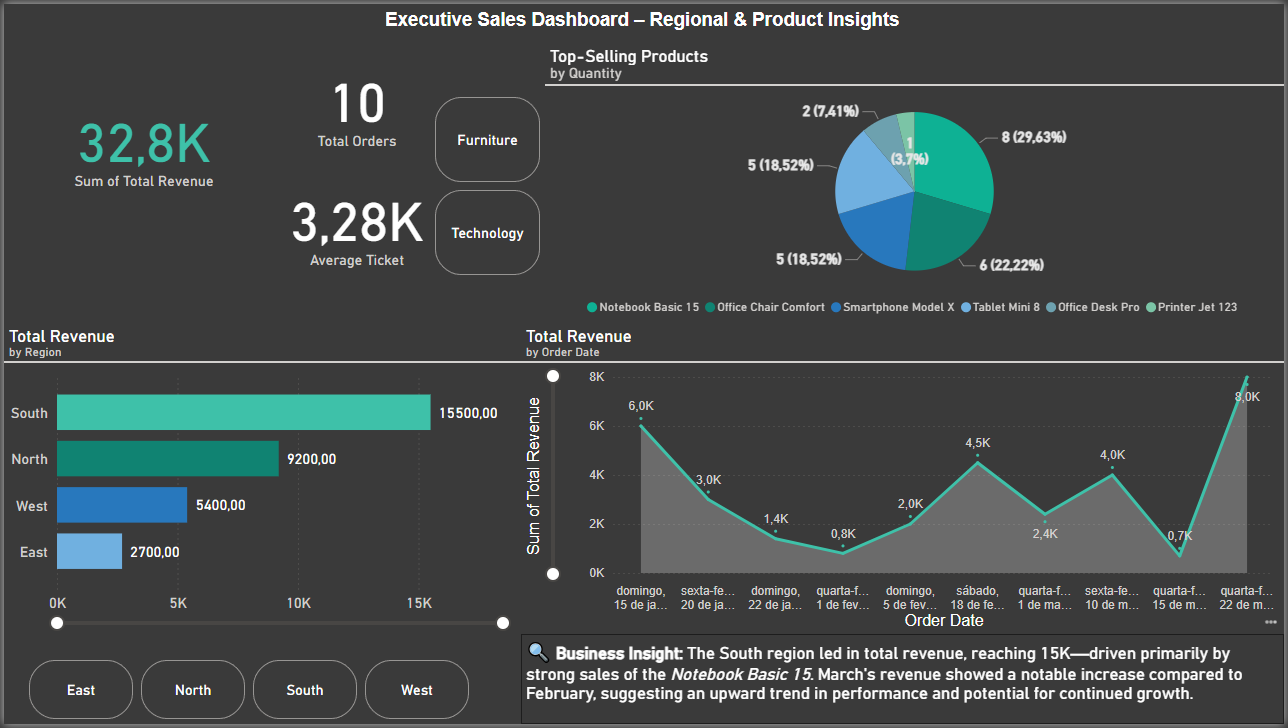

The dashboard page shown, as its layout file describes it:
{"tool":"powerbi","page":{"name":"Page 1","canvas":[1280,720],"ordinal":0},"visuals":[{"type":"card","title":"Total Revenue","fields":{"Values":["Sum(sales_data.Total Revenue)"]},"box":[0,0,280,280],"z":0},{"type":"clusteredBarChart","title":"Total Revenue","fields":{"Category":["sales_data.Region"],"Y":["Sum(sales_data.Total Revenue)"]},"box":[0,322,517,308],"z":1000},{"type":"lineChart","title":"Total Revenue","fields":{"Y":["Sum(sales_data.Total Revenue)"],"Category":["sales_data.Order Date"]},"box":[517,322,763,308],"z":2000},{"type":"advancedSlicerVisual","fields":{"Values":["sales_data.Category"]},"box":[426,88,115,188],"z":3000},{"type":"advancedSlicerVisual","fields":{"Values":["sales_data.Region"]},"box":[0,651,491,69],"z":4000},{"type":"textbox","box":[517,630,763,90],"z":5000},{"type":"pieChart","title":"Top-Selling Products","fields":{"Category":["sales_data.Product"],"Y":["Sum(sales_data.Quantity)"]},"box":[541,42,739,280],"z":6000},{"type":"textbox","box":[376,0,527,42],"z":7000},{"type":"card","title":"Total Orders","fields":{"Values":["sales_data.Total Orders"]},"box":[280,42,146,115],"z":7001},{"type":"card","title":"Average Ticket","fields":{"Values":["sales_data.Avg Ticket"]},"box":[280,157,146,123],"z":7002}]}

Visuals, with their boxes in screenshot pixels (x1, y1, x2, y2), scaled from the page's 1280x720 canvas onto the 1288x728 screenshot:
"Total Revenue" card: [x1=0, y1=0, x2=282, y2=283]
"Total Revenue" clusteredBarChart: [x1=0, y1=326, x2=520, y2=637]
"Total Revenue" lineChart: [x1=520, y1=326, x2=1287, y2=637]
advancedSlicerVisual - sales_data.Category: [x1=429, y1=89, x2=544, y2=279]
advancedSlicerVisual - sales_data.Region: [x1=0, y1=658, x2=494, y2=727]
textbox: [x1=520, y1=637, x2=1287, y2=727]
"Top-Selling Products" pieChart: [x1=544, y1=42, x2=1287, y2=326]
textbox: [x1=378, y1=0, x2=909, y2=42]
"Total Orders" card: [x1=282, y1=42, x2=429, y2=159]
"Average Ticket" card: [x1=282, y1=159, x2=429, y2=283]
